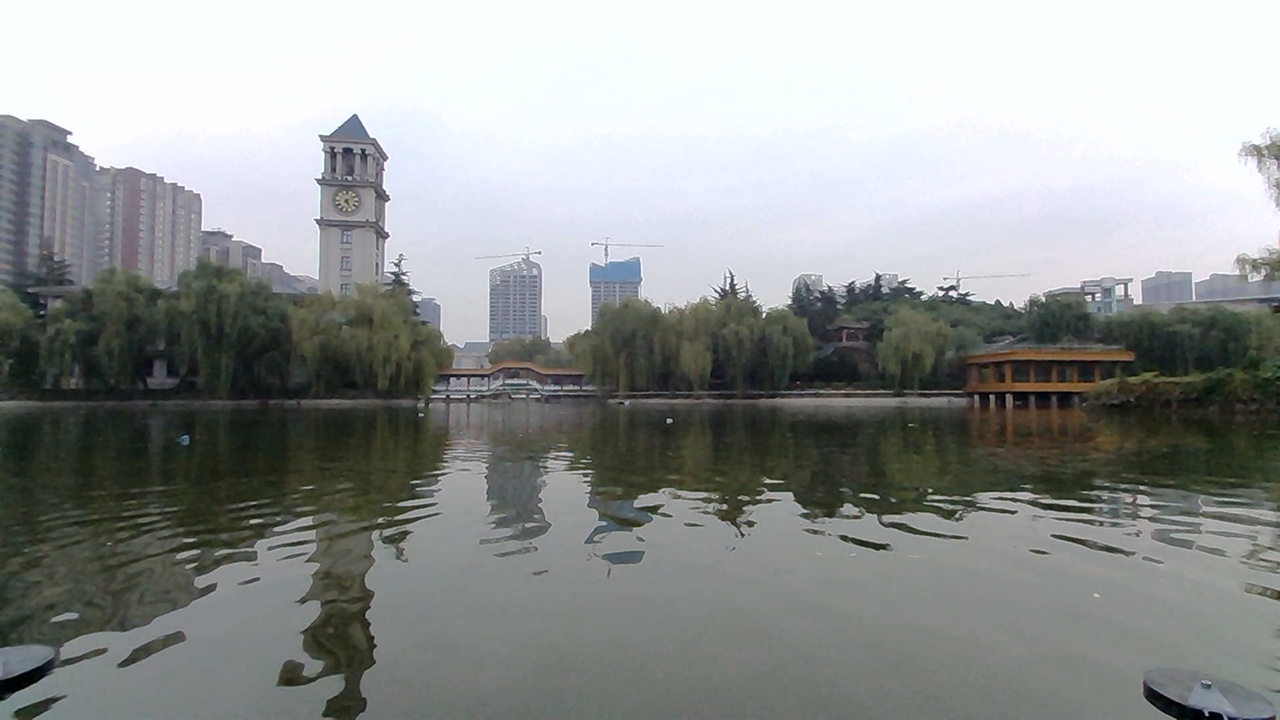bottle: (166, 431, 200, 453), (650, 411, 686, 430)
